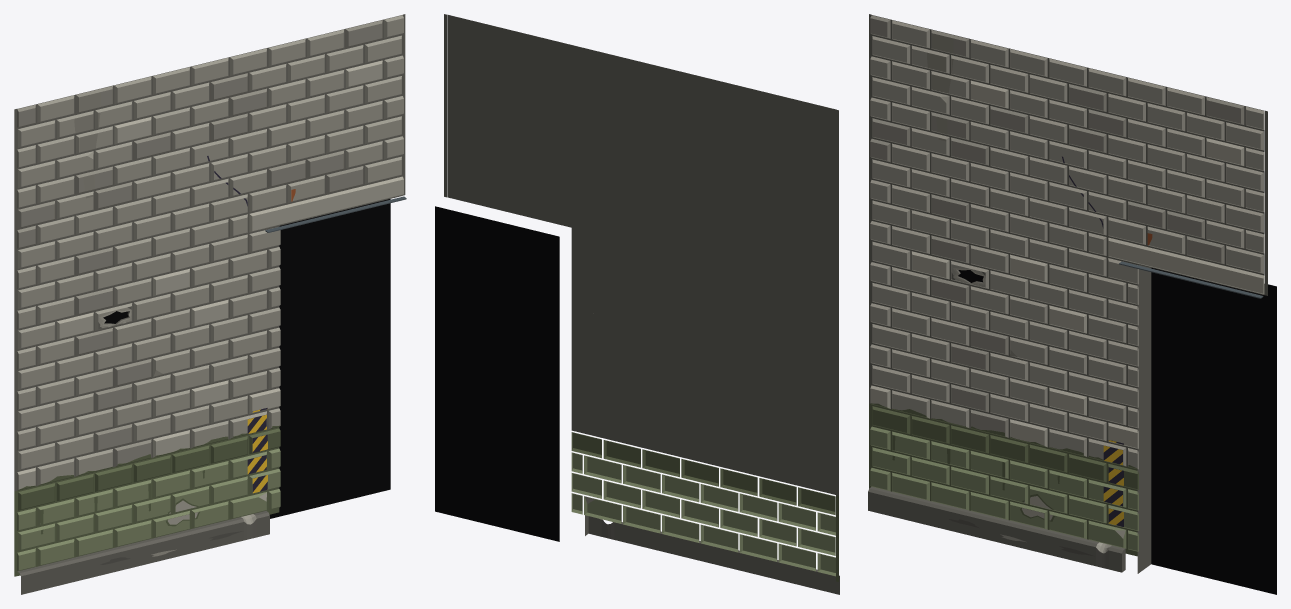
Rendered from wall_panel_door_b.glb.
3 renders of one model, left to right at view 1: azimuth 30°, elevation 25°; view 2: azimuth 150°, elevation 25°; view 3: azimuth 330°, elevation 25°, orthographic. The views are drawn at different scales.
Parts seen in each view (by area): view 1: Wall; view 2: Wall; view 3: Wall.
Boxes of the visible parts, x1,y1,x2,y2 form: Wall: (14,14,406,594); Wall: (435,14,839,594); Wall: (868,14,1276,594).
Bounding box in the file's own units: 5.08 × 5.99 × 0.36.
